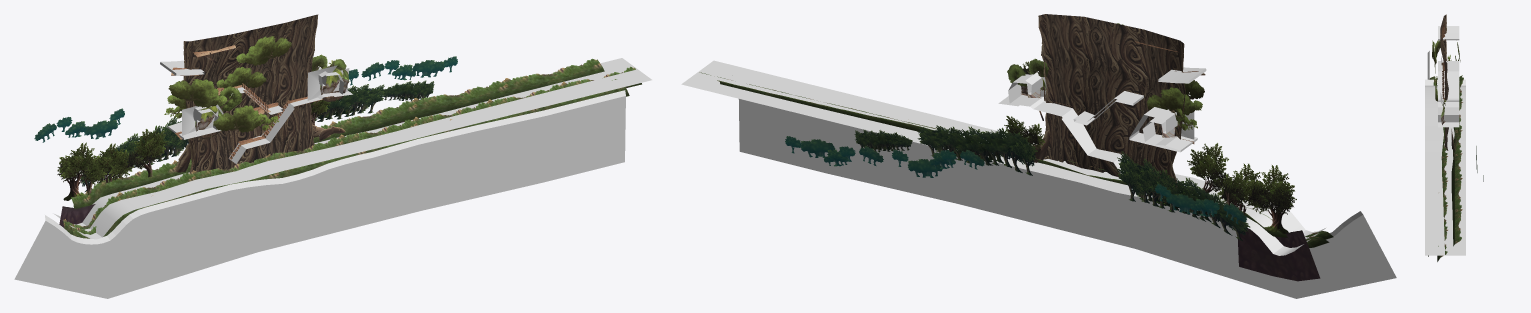
The model's file is Tree Village Pt3.FBX.
The picture shows the model from 3 angles, left to right: view 1: azimuth 30°, elevation 25°; view 2: azimuth 150°, elevation 25°; view 3: azimuth 270°, elevation 25°; orthographic projection. The views are drawn at different scales.
Parts seen in each view (by area): view 1: LVL 11 Black Pt3_1, LVL 11 Black Pt3_3, LVL 11 Black Pt3_2, LVL 11 Col Pt3, LVL11 Big Tree Bark Pt3_2, LVL11_Land Pt3 BG, LVL11 Big Tree Bark Pt3_1, LVL11 Trees Pt3_1, LVL11 Tree BG Pt3, Btree Branch FG Pt3_1, LVL11 Trees Horizon Pt3, LVL11_Land Pt3_2 (+7 smaller); view 2: LVL 11 Col Pt3, LVL 11 Black Pt3_1, LVL11 Big Tree Bark Pt3_2, LVL 11 Black Pt3_2, LVL 11 Black Pt3_3, LVL11 Tree BG Pt3, LVL11 Big Tree Bark Pt3_1, LVL11 Trees Pt3_1, LVL11 Trees Horizon Pt3, LVL Fall Pt3, LVL11_Land Pt3 BG, Btree Branch Pt3_1 (+2 smaller); view 3: LVL 11 Col Pt3, LVL11_Land Pt3 BG, LVL11_Land Pt3_2, LVL11 Big Tree Bark Pt3_2, Btree Branch FG Pt3_1, LVL 11 Wood Platform Pt3_3, LVL11 Big Tree Bark Pt3_1, LVL 11 Black Pt3_1, Btree Branch FG Pt3_2.
Part boxes in pixels (x1,y1,x2,y2): LVL 11 Black Pt3_1: [14, 184, 257, 298]; LVL 11 Black Pt3_3: [418, 90, 625, 210]; LVL 11 Black Pt3_2: [230, 139, 422, 252]; LVL 11 Col Pt3: [53, 58, 651, 239]; LVL11 Big Tree Bark Pt3_2: [183, 14, 318, 152]; LVL11_Land Pt3 BG: [71, 58, 604, 208]; LVL11 Big Tree Bark Pt3_1: [174, 57, 288, 173]; LVL11 Trees Pt3_1: [57, 129, 168, 200]; LVL11 Tree BG Pt3: [80, 80, 434, 191]; Btree Branch FG Pt3_1: [168, 79, 278, 132]; LVL11 Trees Horizon Pt3: [34, 56, 457, 142]; LVL11_Land Pt3_2: [265, 66, 641, 161]; LVL 11 Col Pt3: [681, 60, 1325, 255]; LVL 11 Black Pt3_1: [1135, 203, 1396, 298]; LVL11 Big Tree Bark Pt3_2: [1038, 14, 1185, 164]; LVL 11 Black Pt3_2: [957, 158, 1152, 248]; LVL 11 Black Pt3_3: [738, 99, 959, 203]; LVL11 Tree BG Pt3: [854, 125, 1250, 240]; LVL11 Big Tree Bark Pt3_1: [1073, 60, 1185, 193]; LVL11 Trees Pt3_1: [1187, 143, 1296, 233]; LVL11 Trees Horizon Pt3: [785, 136, 1246, 224]; LVL Fall Pt3: [1237, 228, 1320, 281]; LVL11_Land Pt3 BG: [717, 80, 1287, 237]; Btree Branch Pt3_1: [1147, 87, 1202, 130]; LVL 11 Col Pt3: [1425, 26, 1465, 255]; LVL11_Land Pt3 BG: [1451, 75, 1463, 246]; LVL11_Land Pt3_2: [1437, 134, 1447, 261]; LVL11 Big Tree Bark Pt3_2: [1440, 14, 1454, 150]; Btree Branch FG Pt3_1: [1434, 40, 1440, 101]; LVL 11 Wood Platform Pt3_3: [1441, 62, 1444, 100]; LVL11 Big Tree Bark Pt3_1: [1444, 43, 1448, 135]; LVL 11 Black Pt3_1: [1427, 51, 1429, 79]; Btree Branch FG Pt3_2: [1432, 40, 1436, 64].
Bounding box in the file's own units: 13164 × 2443 × 4457.
